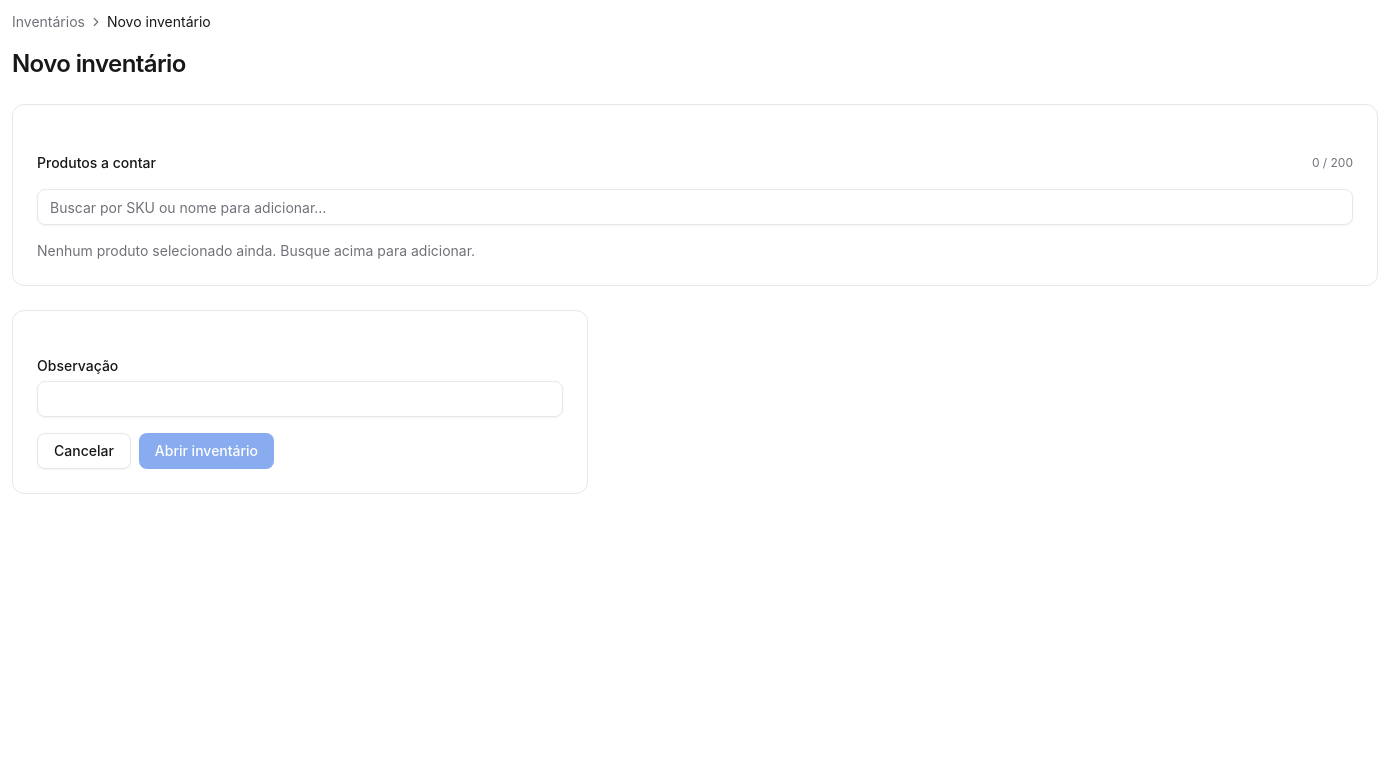
Test: InventoryNewPage › remover um produto selecionado funciona e atualiza o contador
Type "chave" into the field with placeholder "Buscar por SKU ou nome para adicionar…" at (695, 207), box [37,189,1353,225]
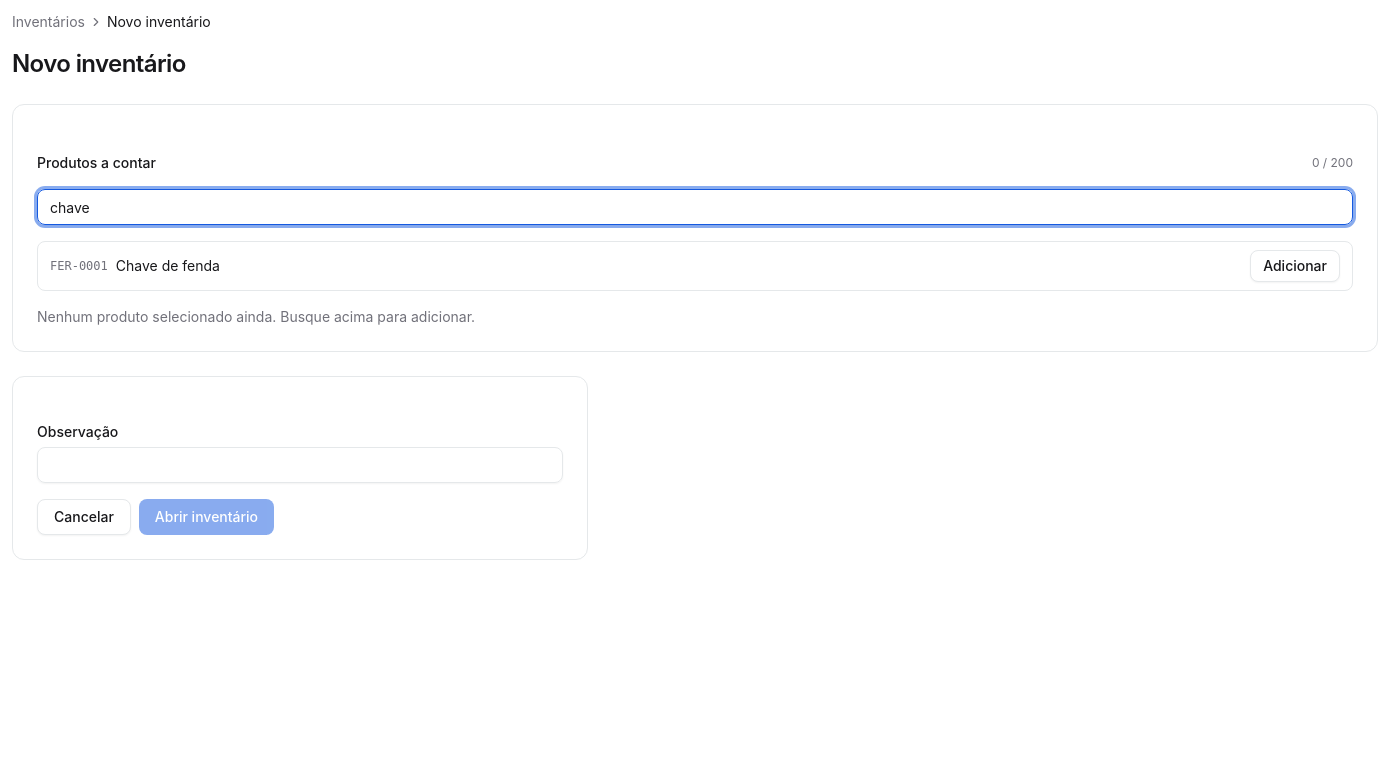
Click the button "Adicionar" at (1295, 266), box [1250,250,1340,282]
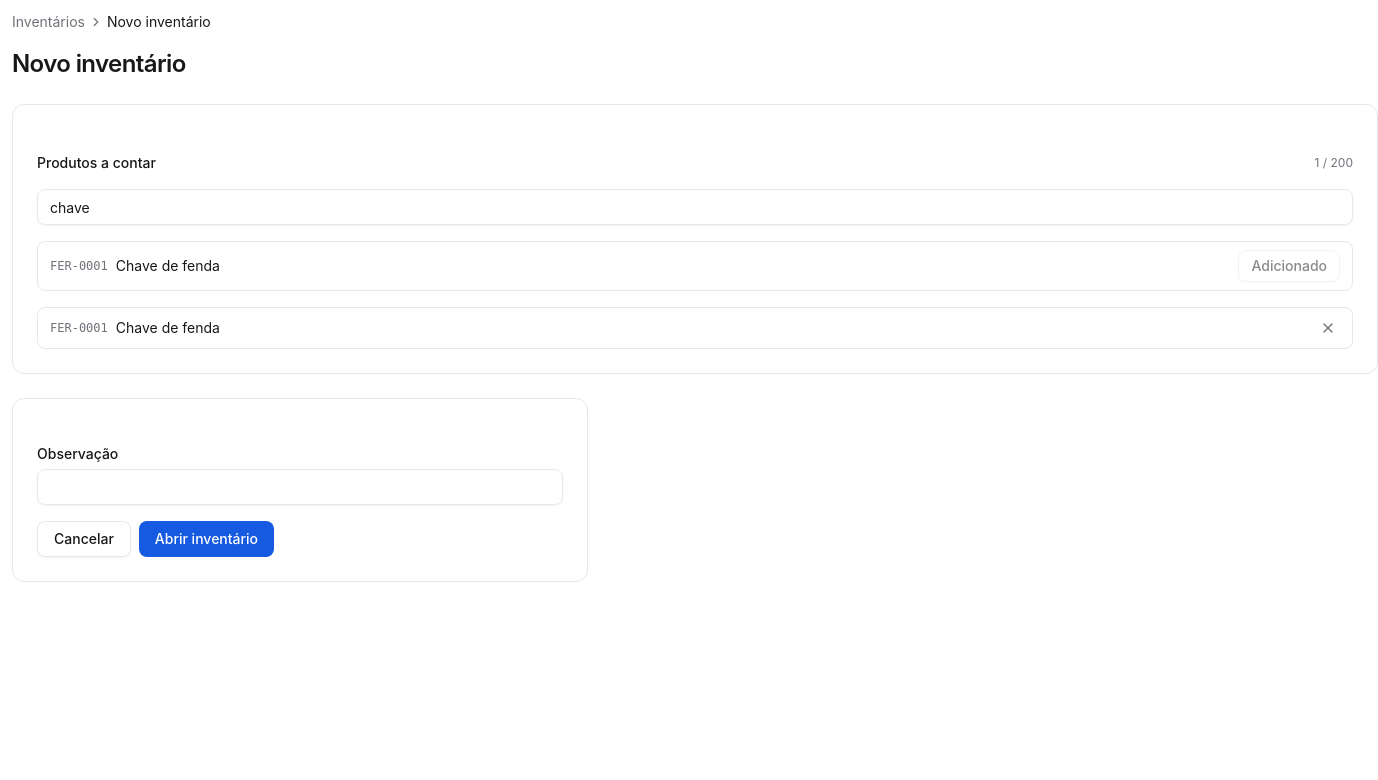
Check: the text "1 / 200" is shown, box [1315,155,1353,171]
Click the button named "remover chave de fenda" at (1328, 328), box [1316,316,1340,340]
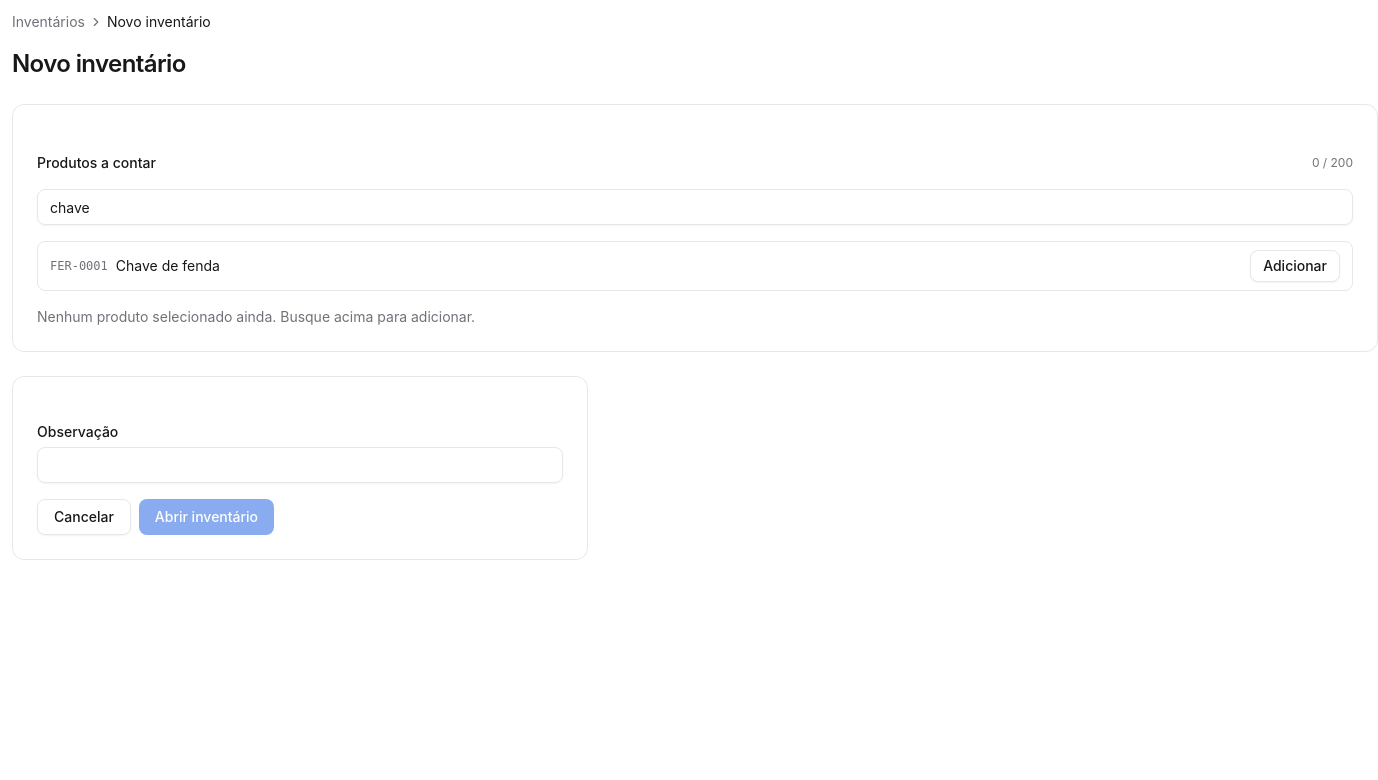
Check: the text "0 / 200" is shown, box [1312,155,1353,171]
Check: the button "Abrir inventário" is disabled, box [139,499,274,535]
